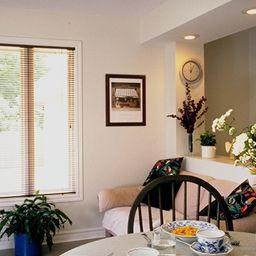Matera: (4, 198, 63, 254)
Ventana: (4, 40, 79, 200)
